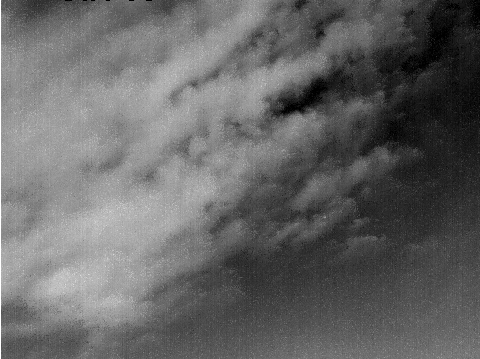dim target: (323, 215, 327, 219)
